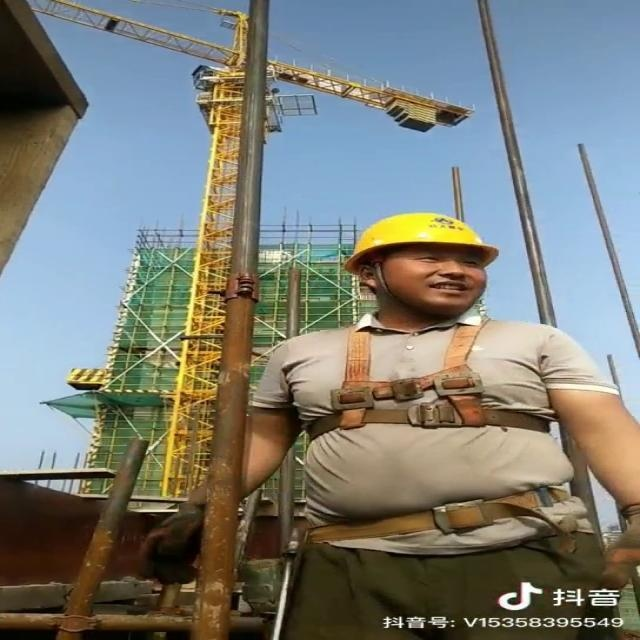Arnes_seguridad: (289, 310, 567, 463)
